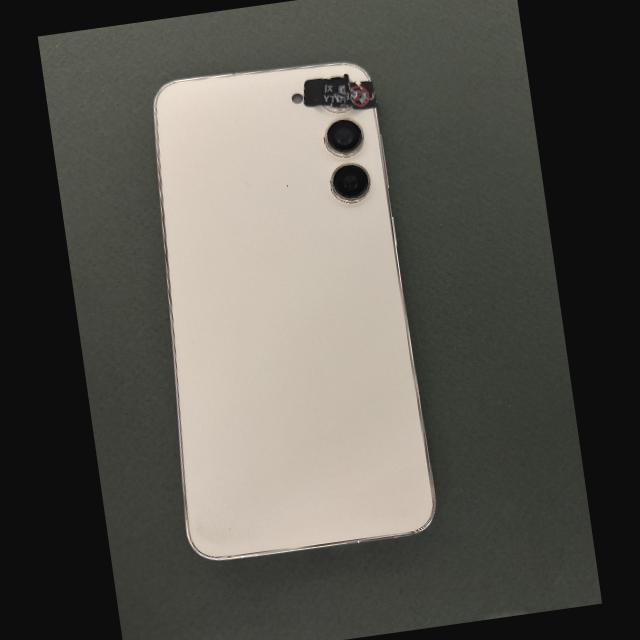lens: (328, 162, 370, 203), (324, 118, 363, 155), (322, 106, 350, 113)
phone: (154, 64, 435, 560)
sticker: (305, 74, 378, 110)
